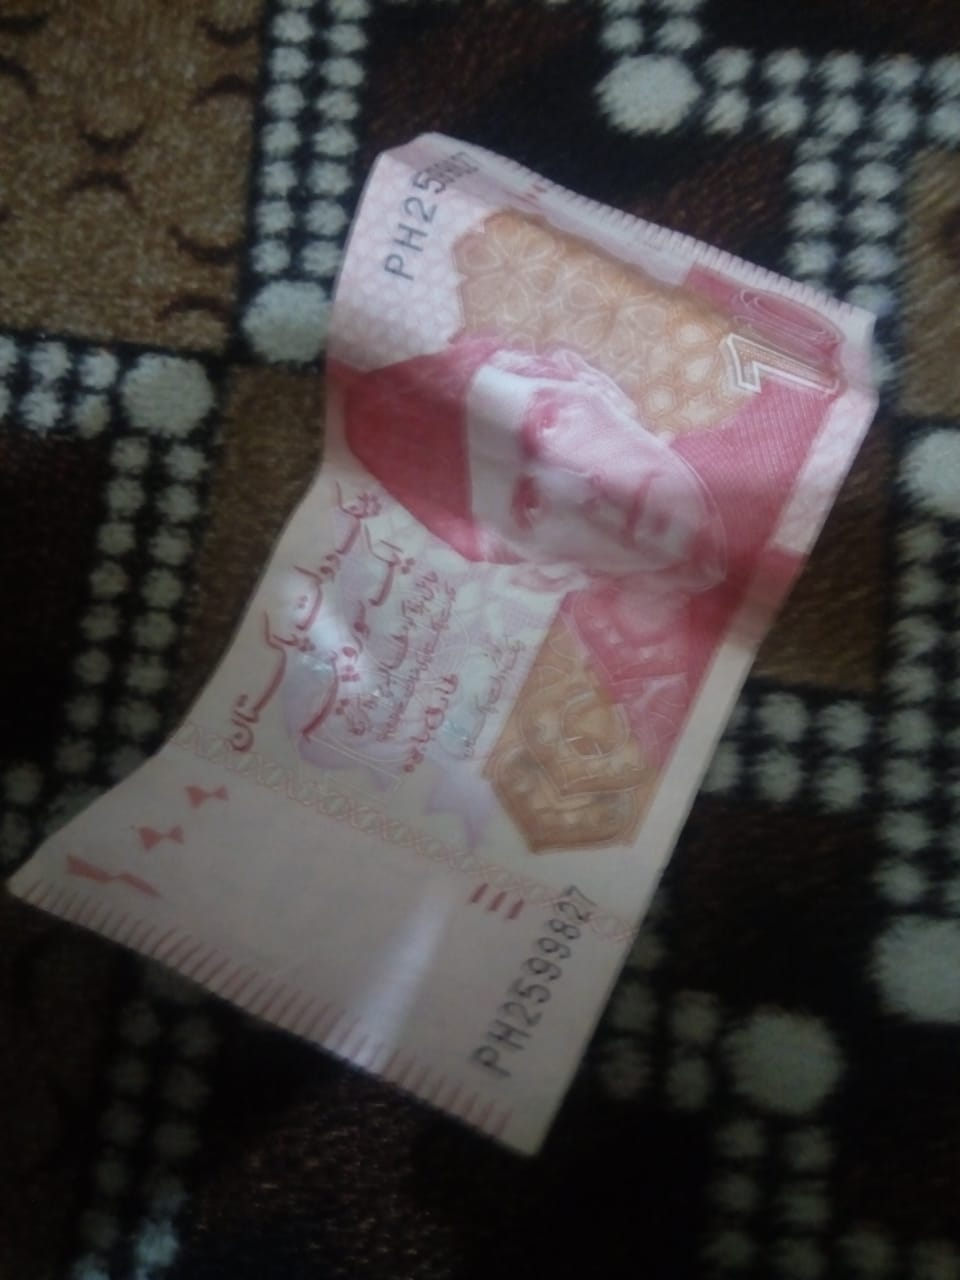100 rupee: (28, 101, 913, 1152)
